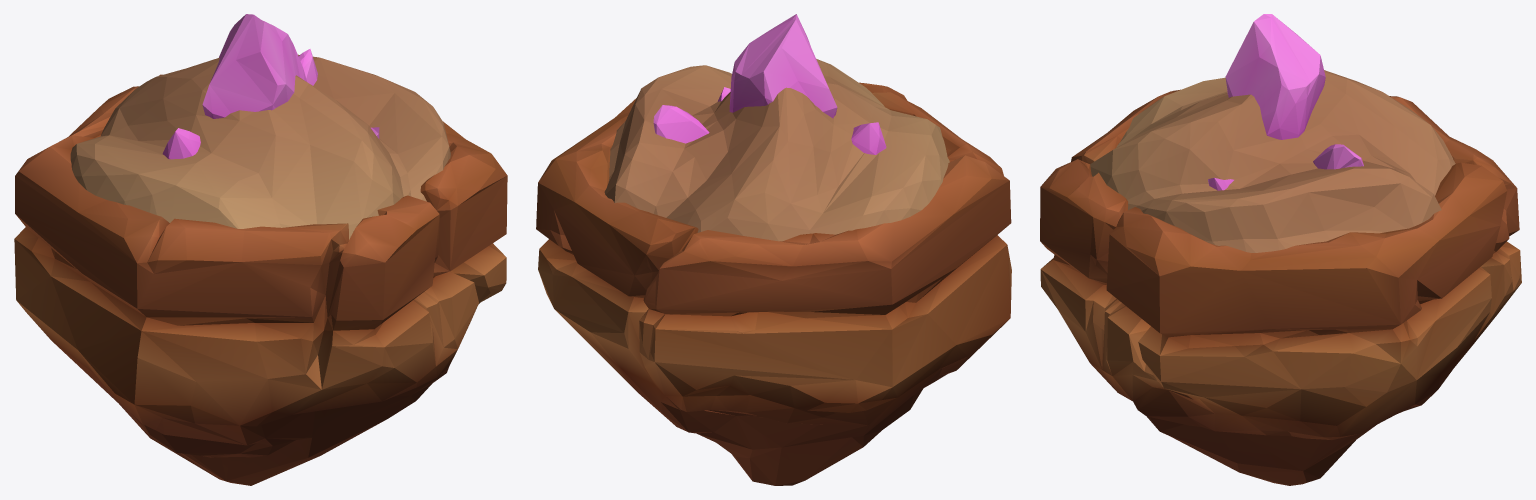
The model's file is Fertile.fbx.
The picture shows the model from 3 angles, left to right: view 1: azimuth 30°, elevation 25°; view 2: azimuth 150°, elevation 25°; view 3: azimuth 270°, elevation 25°; orthographic projection. The views are drawn at different scales.
Visible parts, largest first — view 1: Merged_PM3D_Cylinder3D_10, Merged_PM3D_Cylinder3D_9; view 2: Merged_PM3D_Cylinder3D_10, Merged_PM3D_Cylinder3D_9; view 3: Merged_PM3D_Cylinder3D_10, Merged_PM3D_Cylinder3D_9.
Boxes of the visible parts, bbox=[...] form: Merged_PM3D_Cylinder3D_10: bbox=[14, 54, 507, 485]; Merged_PM3D_Cylinder3D_9: bbox=[162, 14, 379, 159]; Merged_PM3D_Cylinder3D_10: bbox=[536, 59, 1011, 485]; Merged_PM3D_Cylinder3D_9: bbox=[653, 14, 886, 154]; Merged_PM3D_Cylinder3D_10: bbox=[1040, 70, 1521, 485]; Merged_PM3D_Cylinder3D_9: bbox=[1208, 14, 1363, 190].
Size of the model in its own units: 1.74 by 2.14 by 2.
